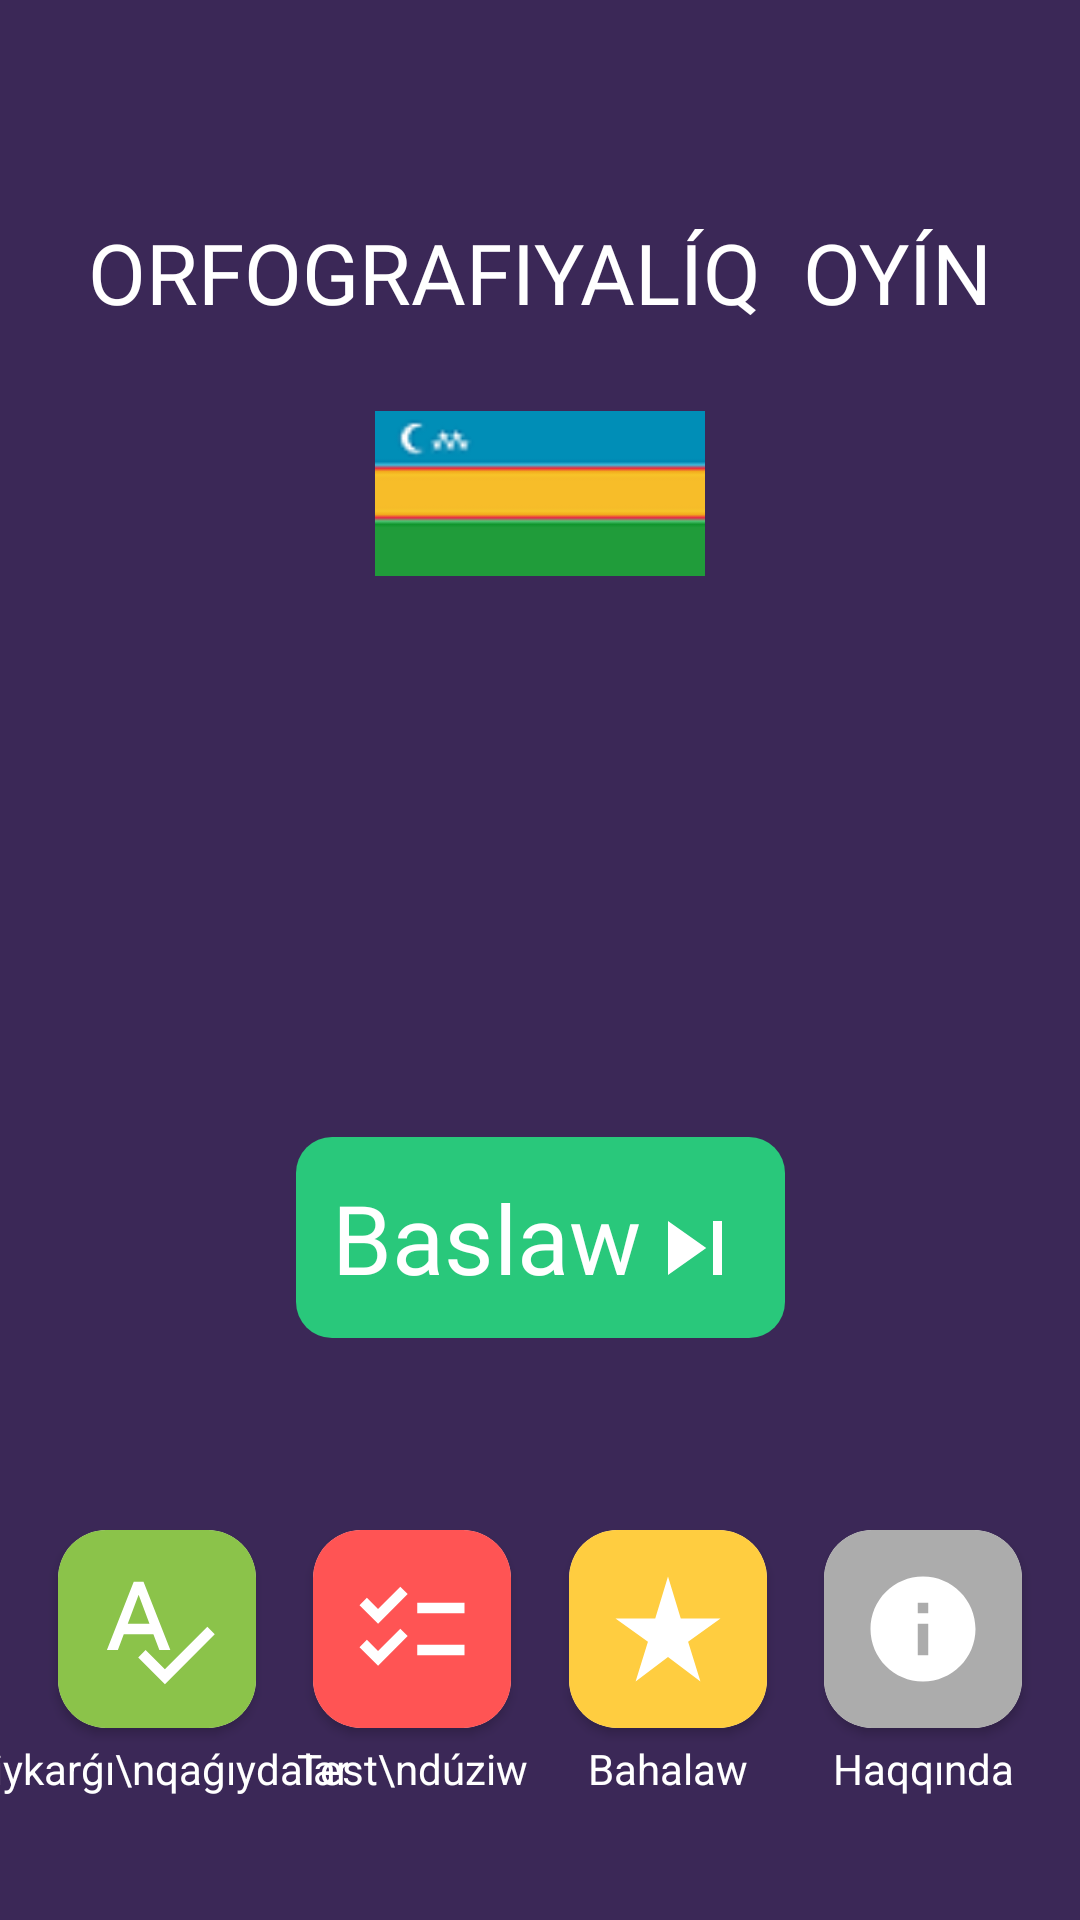

Locate icon controls on the screen. Image size 1080 × 1920, boxes as (left=x1, top=y1, right=x2, bottom=y2).
checklist: (left=313, top=1530, right=511, bottom=1728)
flag: (left=375, top=411, right=705, bottom=576)
skip next: (left=668, top=1221, right=722, bottom=1275)
spellcheck: (left=58, top=1530, right=256, bottom=1728)
star rate: (left=569, top=1530, right=767, bottom=1728)
